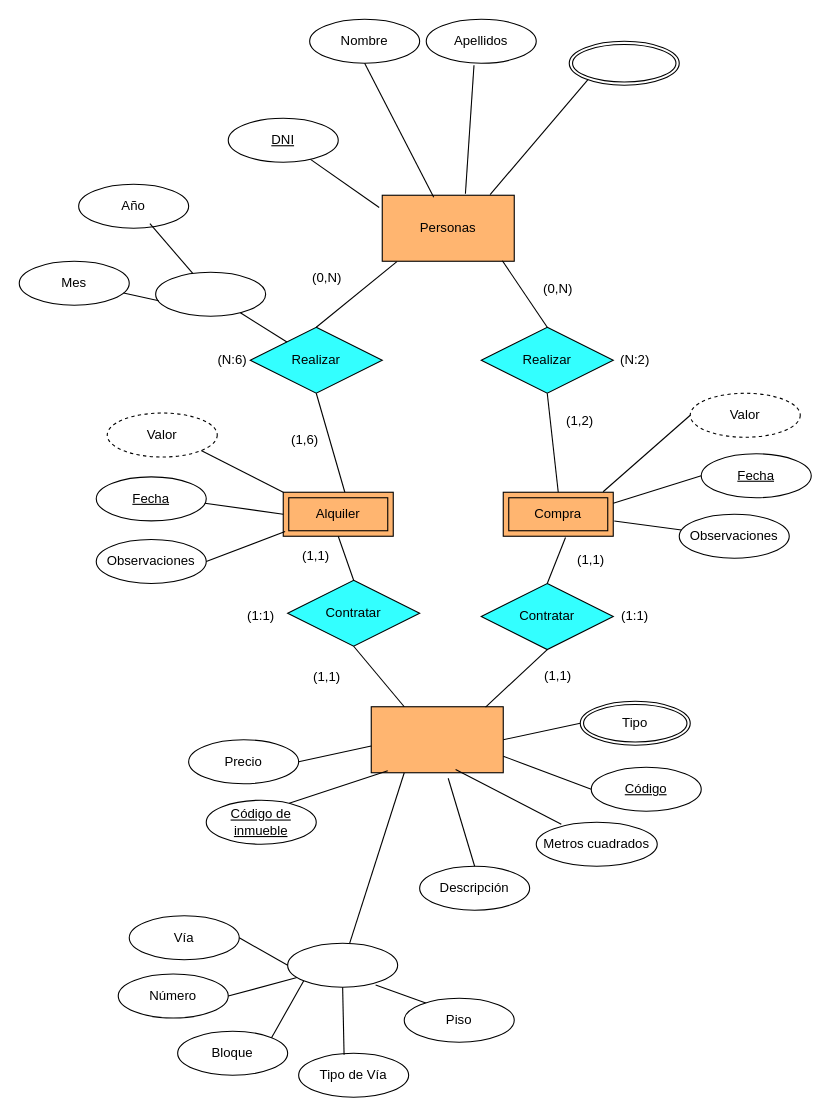
This 831x1117 diagram has some shape labels left out. The shapes that lost their labels are listed below. From the top down, each one's centre as x and y in pixels, then its label:
At point 623,62: "Contacto".
At point 210,293: "Pago".
At point 436,739: "Inmueble".
At point 342,964: "Dirección".
